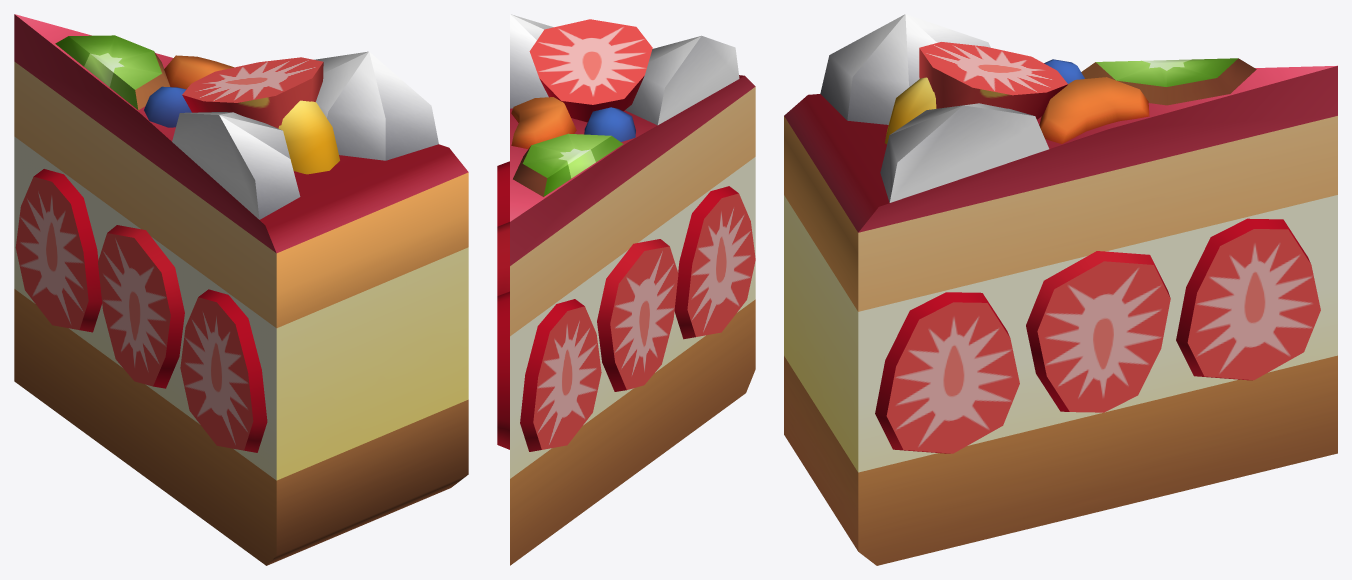
Rendered from m_FruitCake02_Slice.fbx.
3 renders of one model, left to right at view 1: azimuth 30°, elevation 25°; view 2: azimuth 150°, elevation 25°; view 3: azimuth 270°, elevation 25°, orthographic. The views are drawn at different scales.
Parts seen in each view (by area): view 1: m_FruitCake01_Slice; view 2: m_FruitCake01_Slice; view 3: m_FruitCake01_Slice.
Part boxes in pixels (bbox=[...]): m_FruitCake01_Slice: bbox=[14, 14, 468, 565]; m_FruitCake01_Slice: bbox=[497, 14, 755, 565]; m_FruitCake01_Slice: bbox=[784, 14, 1337, 565].
Bounding box in the file's own units: 7.36 × 12.29 × 14.
